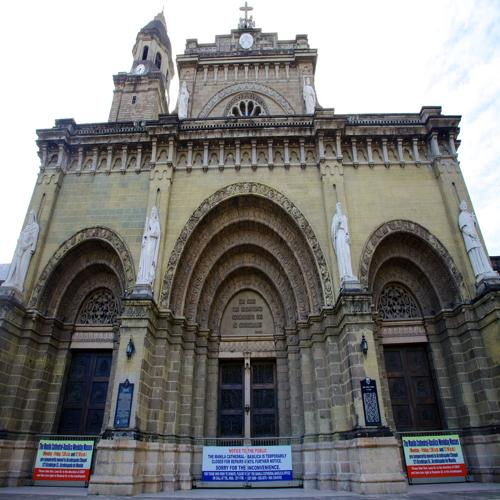Manila Cathedral Church: (3, 1, 500, 478)
